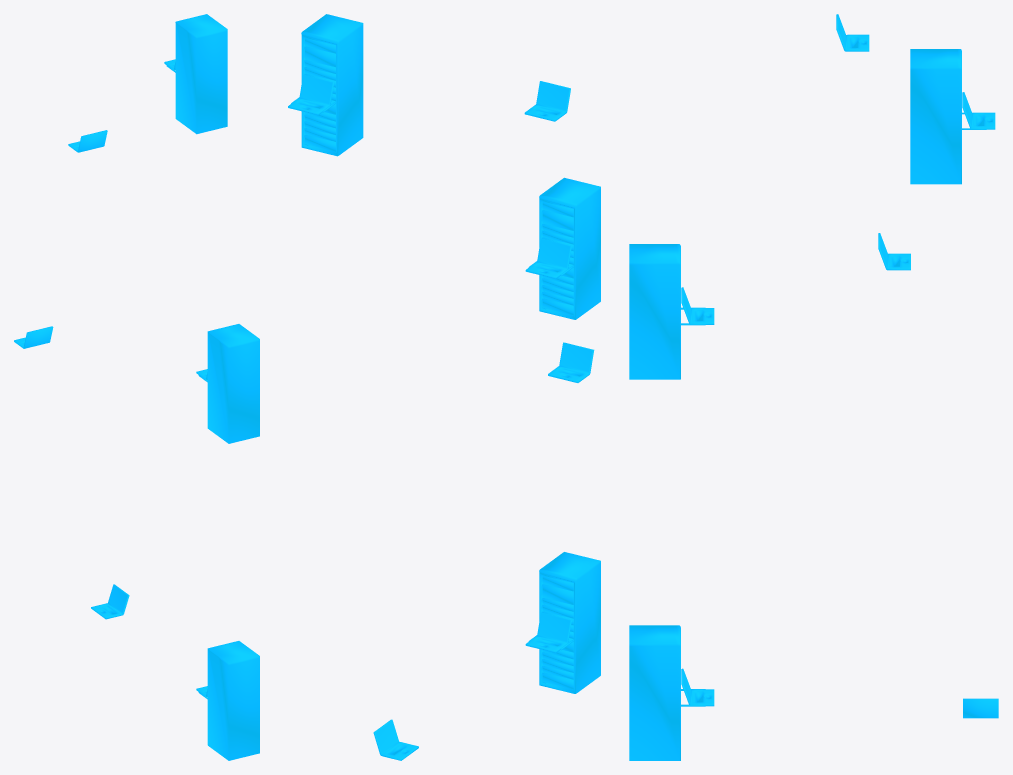
The model's file is data.gltf.
3 views of the same model, side by side, from view 1: azimuth 30°, elevation 25°; view 2: azimuth 150°, elevation 25°; view 3: azimuth 270°, elevation 25° (orthographic). The views are drawn at different scales.
Visible parts, largest first — view 1: data; view 2: data; view 3: data.
Boxes of the visible parts, x1,y1,x2,y2 form: data: (14, 14, 259, 760); data: (288, 14, 600, 760); data: (629, 14, 998, 760).
Bounding box in the file's own units: 6.5 × 17.97 × 8.09.
